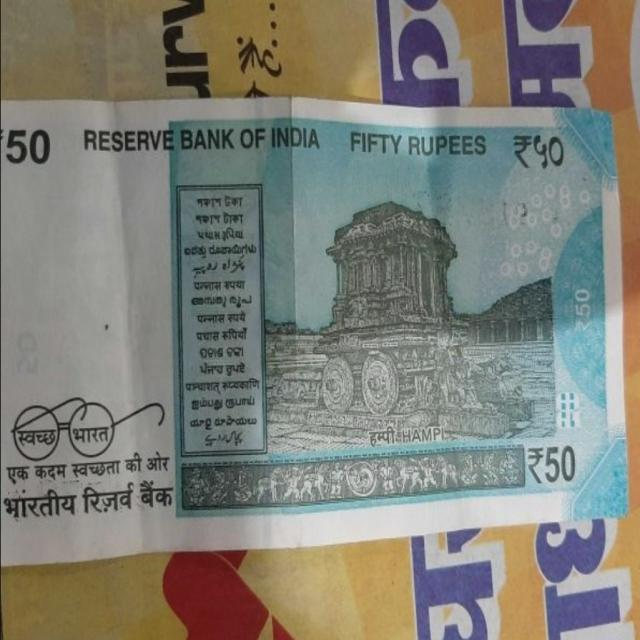50IndianRupees: (0, 106, 621, 558), (170, 101, 624, 519)
